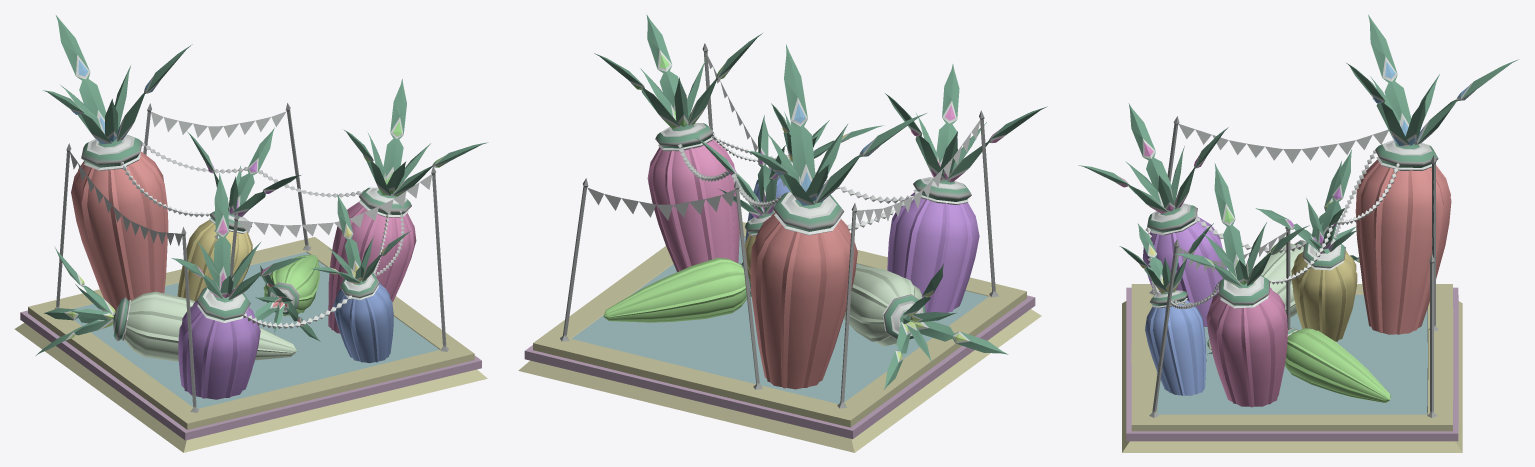
The picture shows the model from 3 angles, left to right: view 1: azimuth 30°, elevation 25°; view 2: azimuth 150°, elevation 25°; view 3: azimuth 270°, elevation 25°; orthographic projection. The views are drawn at different scales.
Parts seen in each view (by area): view 1: G:\FFXIV-MapTools\exports\u5f1\bg\ex4\04_uvs_u5\fld\u5f1\bgp (×10); view 2: G:\FFXIV-MapTools\exports\u5f1\bg\ex4\04_uvs_u5\fld\u5f1\bgp (×10); view 3: G:\FFXIV-MapTools\exports\u5f1\bg\ex4\04_uvs_u5\fld\u5f1\bgp (×10).
Part boxes in pixels (<box>): G:\FFXIV-MapTools\exports\u5f1\bg\ex4\04_uvs_u5\fld\u5f1\bgp (×10): <box>14,15,488,452</box>; G:\FFXIV-MapTools\exports\u5f1\bg\ex4\04_uvs_u5\fld\u5f1\bgp (×10): <box>518,14,1047,452</box>; G:\FFXIV-MapTools\exports\u5f1\bg\ex4\04_uvs_u5\fld\u5f1\bgp (×10): <box>1078,14,1518,452</box>.
Size of the model in its own units: 5.74 by 4.25 by 5.59.
